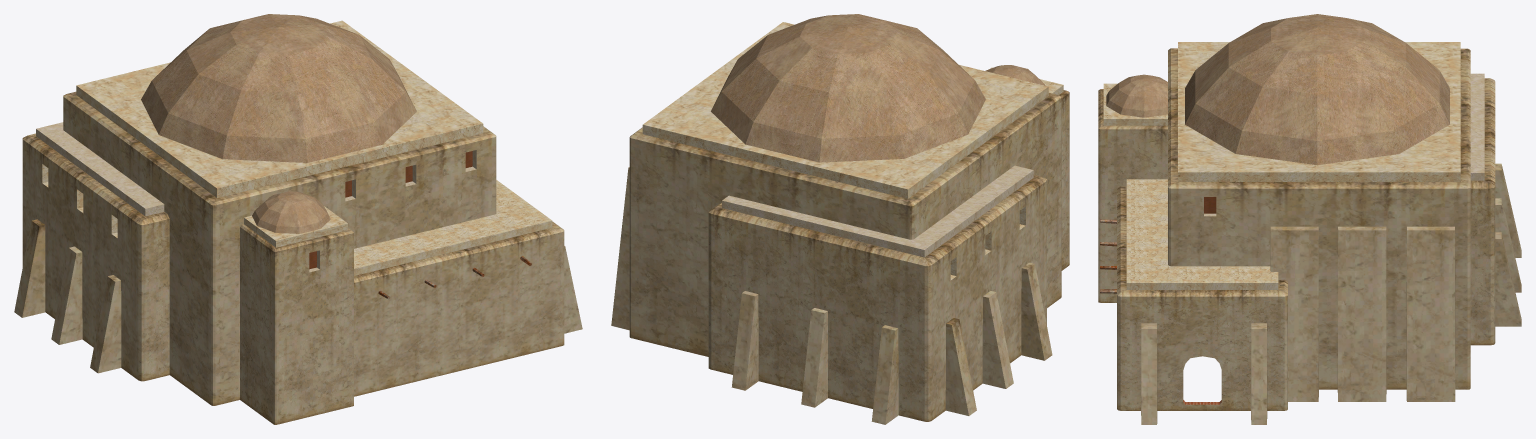
Rendered from thm_tato_imprv_building_s01_r0_mesh_l0.fbx.
3 views of the same model, side by side, from view 1: azimuth 30°, elevation 25°; view 2: azimuth 150°, elevation 25°; view 3: azimuth 270°, elevation 25° (orthographic).
Visible parts, largest first — view 1: mesh_node; view 2: mesh_node; view 3: mesh_node.
Boxes of the visible parts, box(x1,y1,x2,y2) form: mesh_node: box(14, 14, 582, 424); mesh_node: box(611, 14, 1069, 424); mesh_node: box(1098, 14, 1521, 424).
Bounding box in the file's own units: 26.2 × 17.79 × 23.43.
